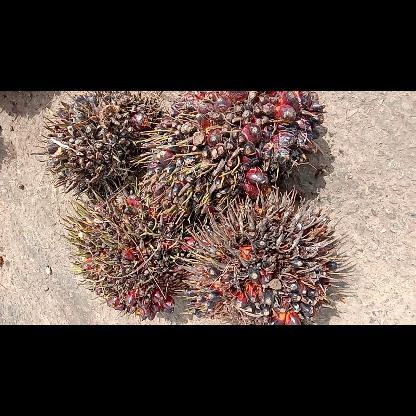TBS abnormal: (198, 198, 344, 324), (66, 185, 202, 317), (160, 92, 322, 194), (43, 90, 165, 184)
